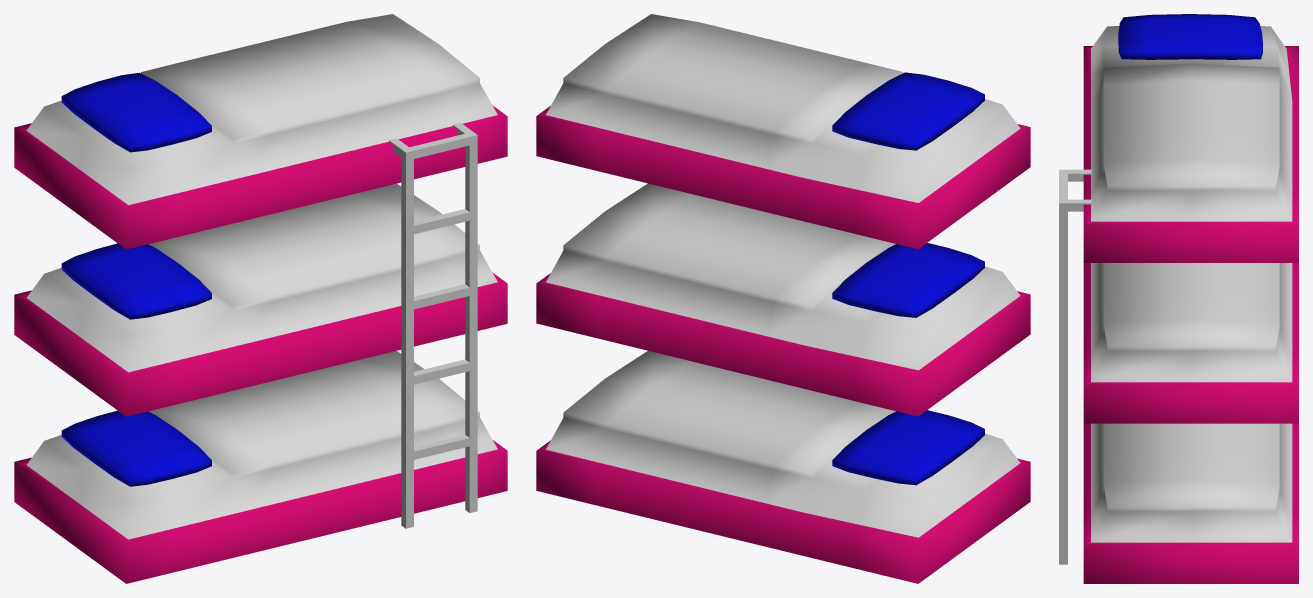
The model's file is motherShipBed.fbx.
3 renders of one model, left to right at view 1: azimuth 30°, elevation 25°; view 2: azimuth 150°, elevation 25°; view 3: azimuth 270°, elevation 25°, orthographic. The views are drawn at different scales.
Parts seen in each view (by area): view 1: Bed; view 2: Bed; view 3: Bed.
Boxes of the visible parts, box(x1,y1,x2,y2) form: Bed: box(14, 14, 507, 583); Bed: box(536, 14, 1030, 583); Bed: box(1059, 14, 1298, 583).
Size of the model in its own units: 2.39 by 2.54 by 1.35.
